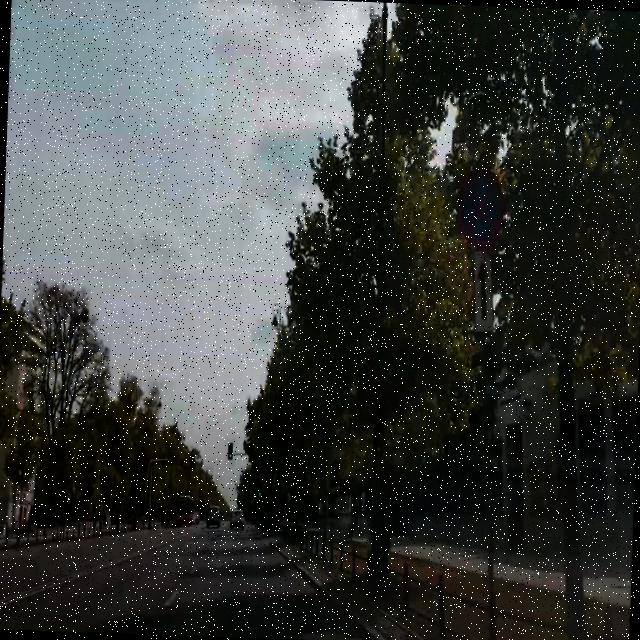Zakaz zatrzymywania sie: (456, 165, 505, 247)
